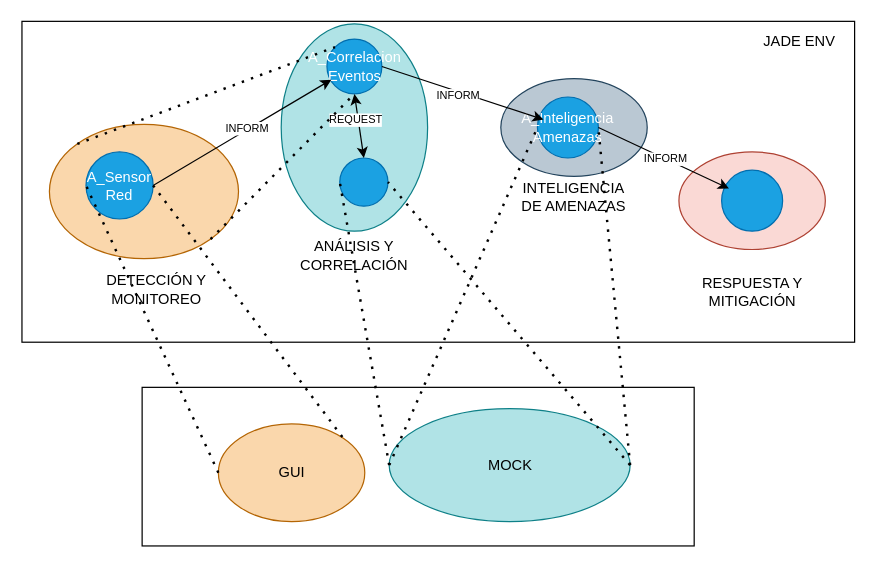
Some shapes in this 876 by 567 pixel diagram are drawn without their labels. Here are the shapes that lost their labels. From the top down, the centre of each, then its label:
At (363,181): "A_Analizador Malware".
At (751,200): "A_Orquestador Respuesta".
